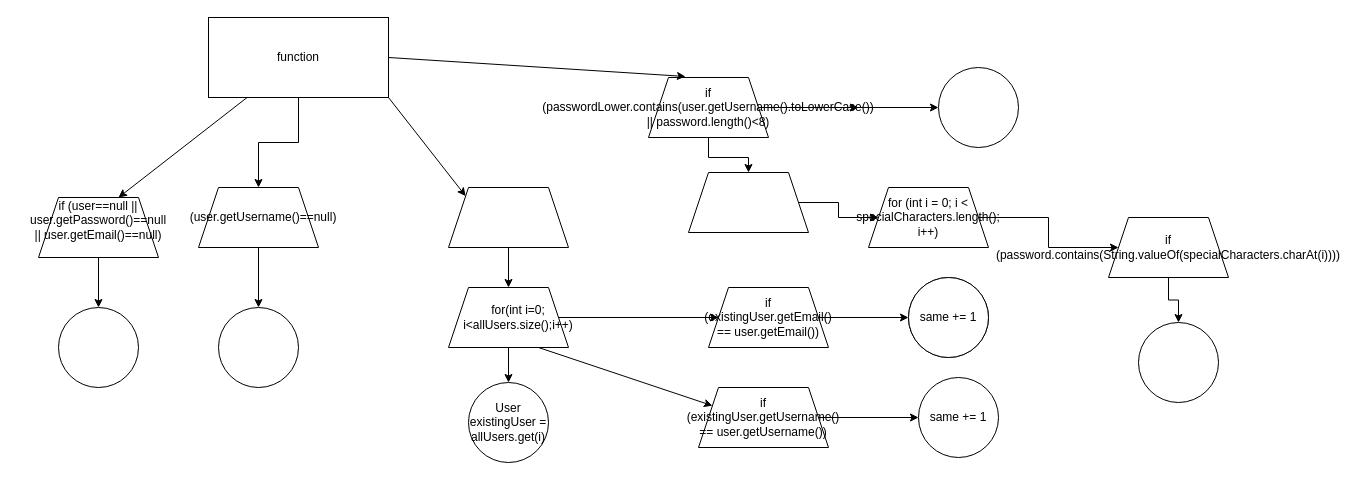
This 1357x480 diagram has some shape labels left out. Here are the shapes that lost their labels. From the top down, the box of each, then its label:
(938, 66, 1018, 148): return false
(448, 186, 568, 248): if (user.getEmail().contains("@") && user.getEmail().contains("."))
(688, 172, 808, 232): if (!passwordLower.contains(" "))
(58, 306, 138, 388): throw new RuntimeException("Mandatory information missing!")
(218, 306, 298, 388): user.setUsername(user.getEmail())
(1138, 322, 1218, 402): return same == 0
